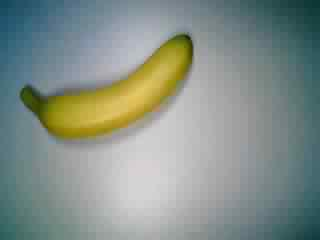banana: (13, 30, 203, 145)
